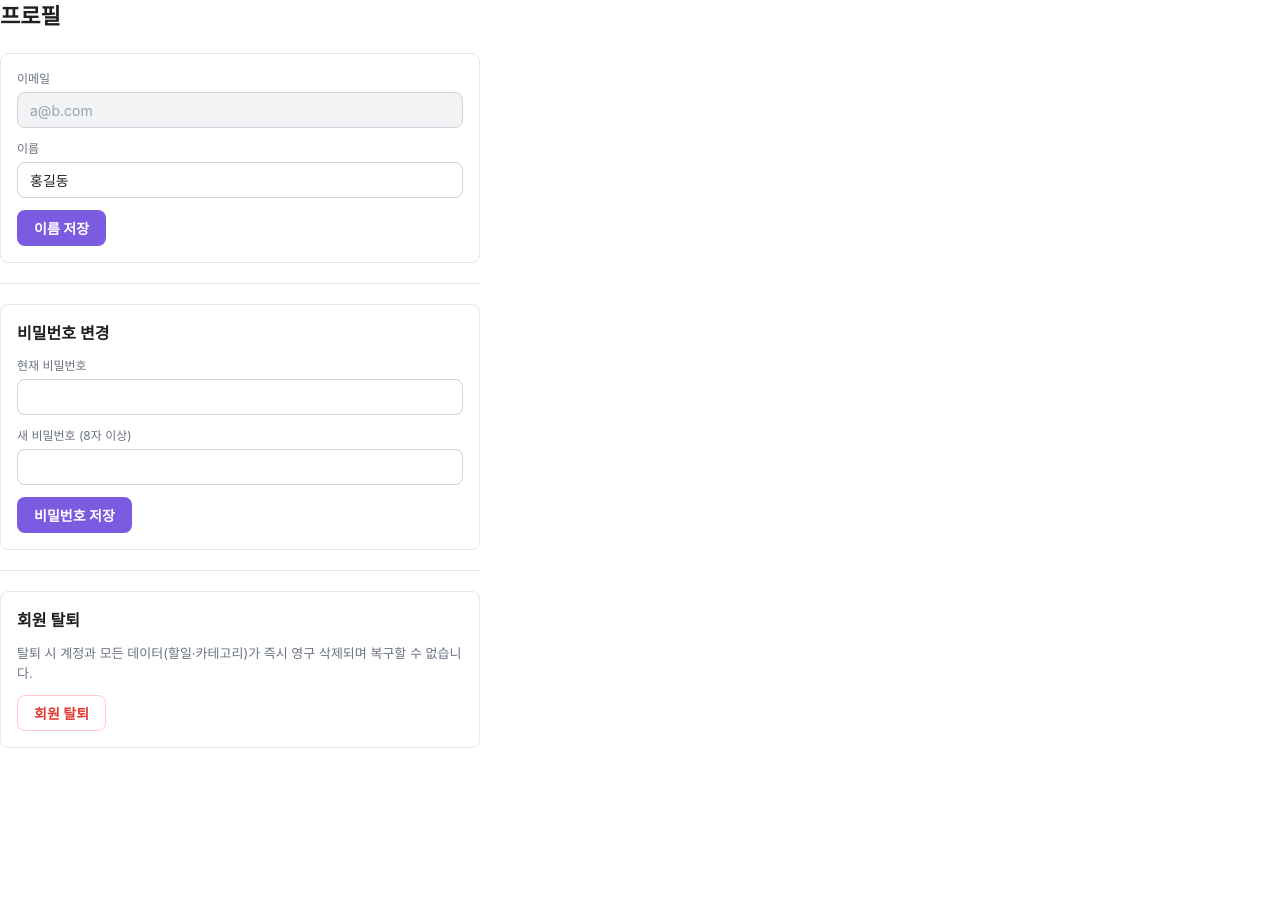
Test case: ProfilePage › 회원 탈퇴 버튼 → 확인 모달 → 취소
The width and height of the screenshot is (1280, 900).
Check: the field labelled "이름" is shown, box [17,162,463,198]
What coordinates should you click on to do the following:
click the button "회원 탈퇴"
I would click on:
 (62, 713)
Its box is [17,695,106,731].
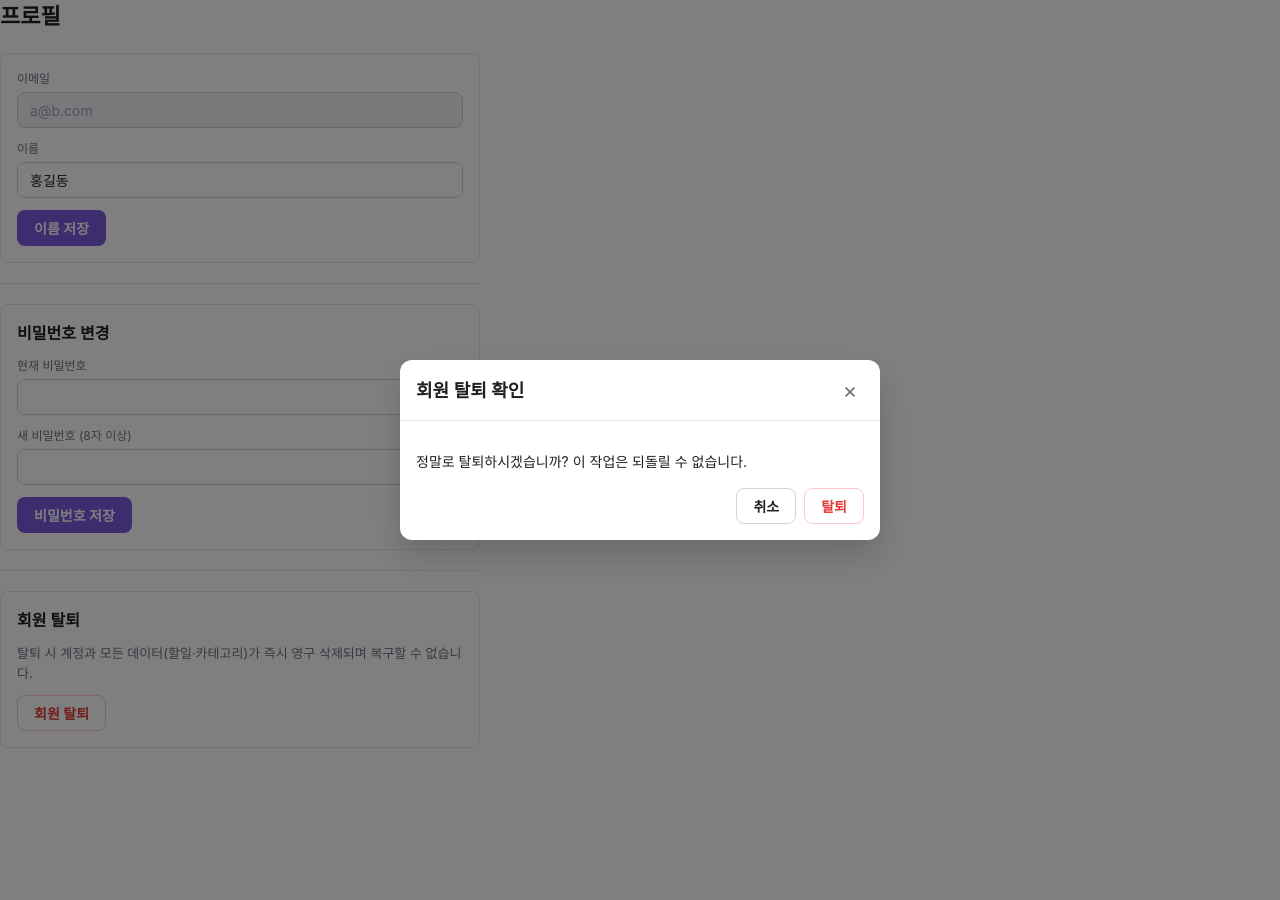
What coordinates should you click on to do the following:
click the button "취소"
I would click on:
 (766, 506)
Its box is [736,488,796,524].
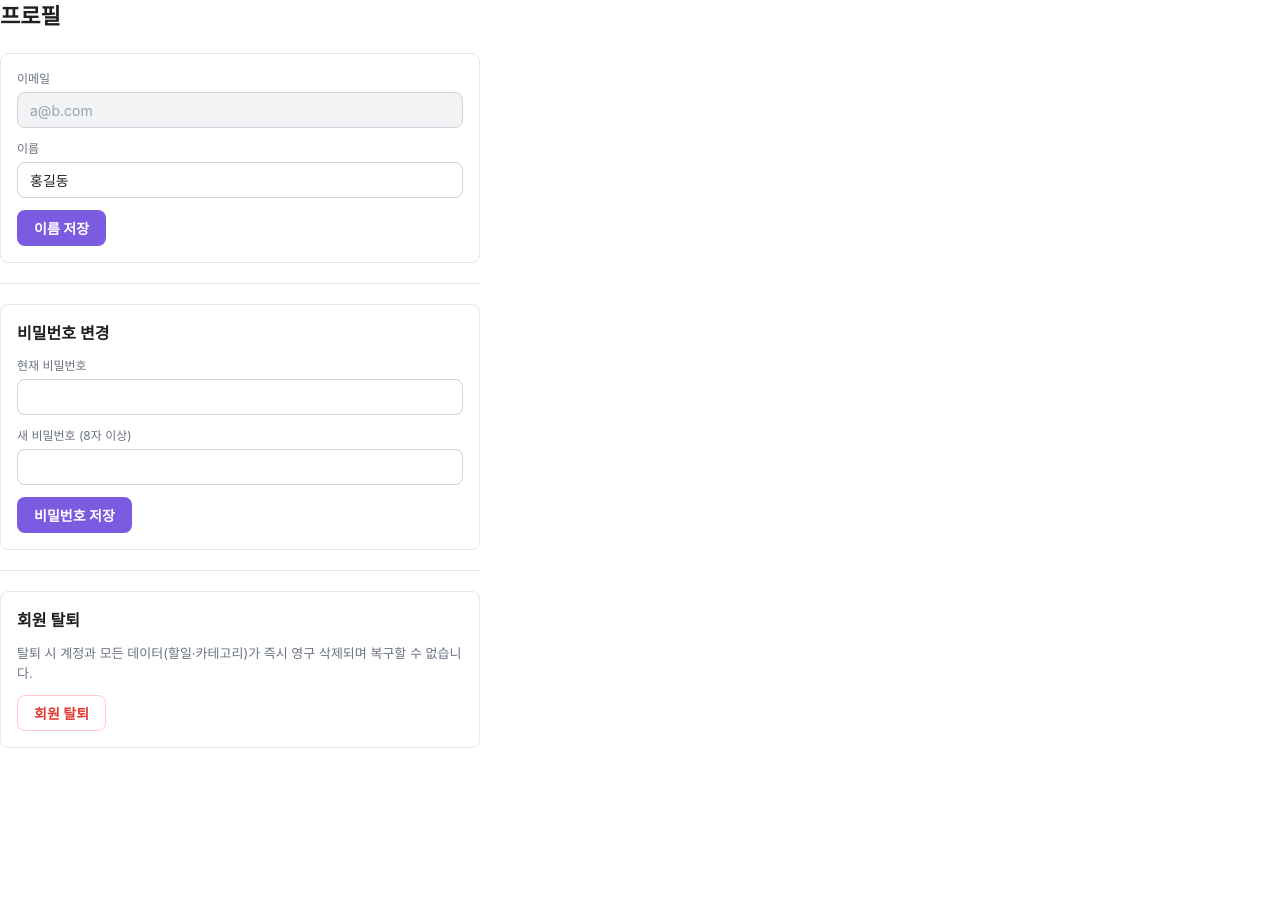
Check: the dialog is gone
